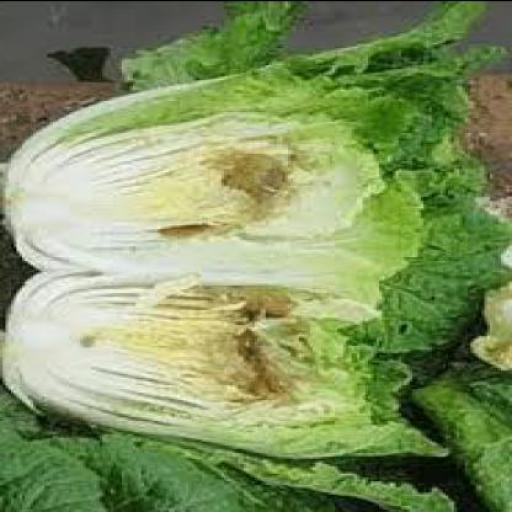biodegradable: (2, 1, 511, 458), (3, 58, 429, 301), (3, 266, 449, 455), (3, 411, 451, 510), (416, 283, 512, 510)
